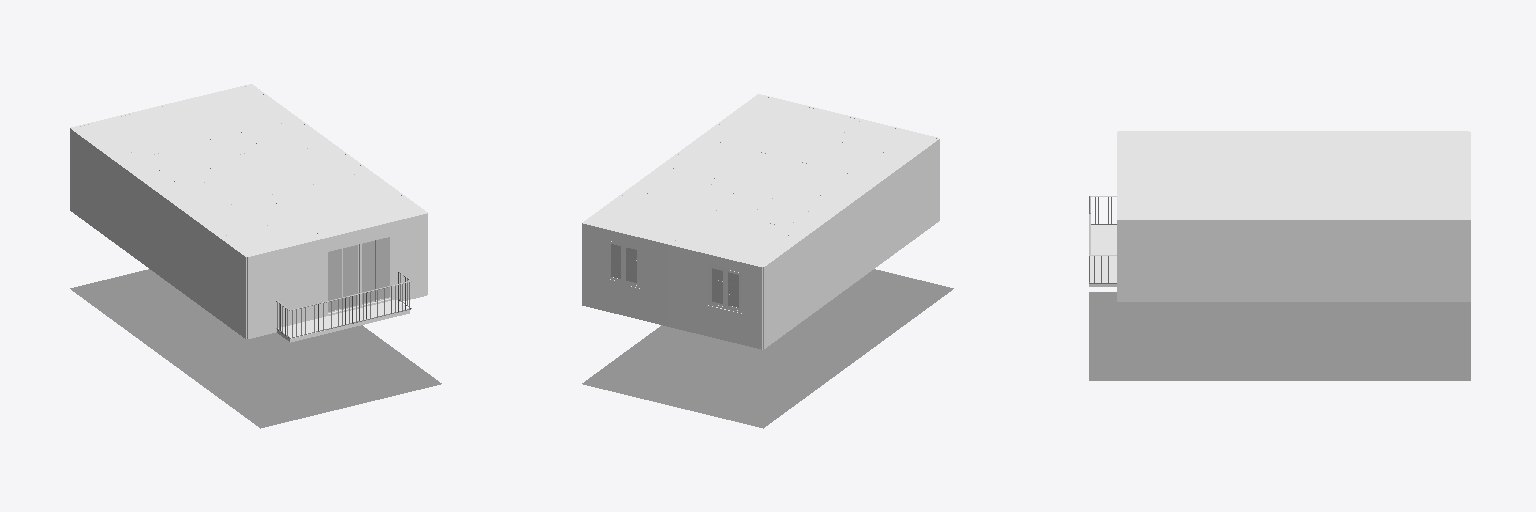
Rendered from piso2.obj.
3 renders of one model, left to right at view 1: azimuth 30°, elevation 25°; view 2: azimuth 150°, elevation 25°; view 3: azimuth 270°, elevation 25°, orthographic.
Parts seen in each view (by area): view 1: room_37_219, ground_1, wall_33_196, wall_21_124, wall_20_118, wall_34_202, wall_32_190, wall_31_184, room_38_220, sweethome3d_window_pane_on_rail_2_299, sweethome3d_window_pane_on_rail_2_291, sweethome3d_window_pane_on_rail_1_297 (+1 smaller); view 2: room_37_219, ground_1, wall_33_196, wall_15_88, wall_16_94, wall_34_202, wall_32_190, wall_31_184; view 3: ground_1, room_37_219, wall_36_214, wall_17_100, wall_35_208, wall_30_178, room_38_220.
Boxes of the visible parts, x1=… form: room_37_219: x1=73, y1=85, x2=424, y2=255; ground_1: x1=70, y1=269, x2=441, y2=428; wall_33_196: x1=109, y1=157, x2=187, y2=296; wall_21_124: x1=247, y1=238, x2=325, y2=338; wall_20_118: x1=326, y1=214, x2=426, y2=301; wall_34_202: x1=70, y1=129, x2=108, y2=238; wall_32_190: x1=188, y1=215, x2=217, y2=318; wall_31_184: x1=218, y1=237, x2=246, y2=338; room_38_220: x1=277, y1=300, x2=409, y2=342; sweethome3d_window_pane_on_rail_2_299: x1=343, y1=245, x2=357, y2=308; sweethome3d_window_pane_on_rail_2_291: x1=376, y1=237, x2=389, y2=299; sweethome3d_window_pane_on_rail_1_297: x1=328, y1=249, x2=341, y2=311; room_37_219: x1=586, y1=95, x2=935, y2=265; ground_1: x1=582, y1=269, x2=953, y2=428; wall_33_196: x1=804, y1=181, x2=881, y2=319; wall_15_88: x1=668, y1=245, x2=762, y2=349; wall_16_94: x1=582, y1=223, x2=667, y2=326; wall_34_202: x1=763, y1=239, x2=803, y2=348; wall_32_190: x1=882, y1=160, x2=911, y2=262; wall_31_184: x1=912, y1=139, x2=939, y2=240; ground_1: x1=1089, y1=292, x2=1470, y2=380; room_37_219: x1=1120, y1=132, x2=1468, y2=218; wall_36_214: x1=1118, y1=220, x2=1233, y2=301; wall_17_100: x1=1375, y1=220, x2=1470, y2=301; wall_35_208: x1=1234, y1=220, x2=1310, y2=301; wall_30_178: x1=1311, y1=220, x2=1374, y2=301; room_38_220: x1=1089, y1=225, x2=1116, y2=286.
Size of the model in its own units: 608 by 512 by 1105.